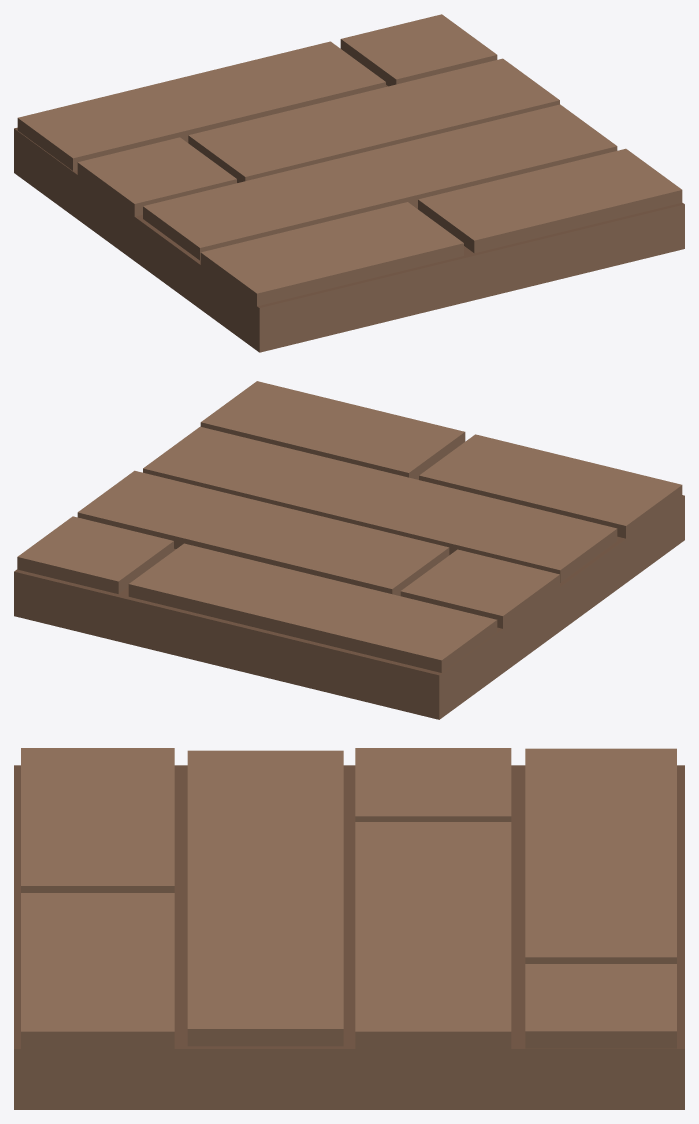
The model's file is Mesh_GroundPlanks_02.fbx.
3 renders of one model, top to bottom at view 1: azimuth 30°, elevation 25°; view 2: azimuth 150°, elevation 25°; view 3: azimuth 270°, elevation 25°, orthographic. The views are drawn at different scales.
Parts seen in each view (by area): view 1: Mesh_GroundPlanks_02; view 2: Mesh_GroundPlanks_02; view 3: Mesh_GroundPlanks_02.
Part boxes in pixels (x1,y1,x2,y2): Mesh_GroundPlanks_02: [14, 14, 684, 352]; Mesh_GroundPlanks_02: [14, 381, 684, 719]; Mesh_GroundPlanks_02: [14, 748, 684, 1109].
Size of the model in its own units: 1 by 0.1285 by 1.
